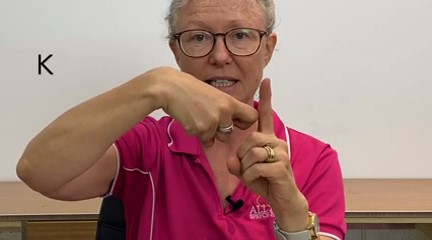K: (144, 58, 317, 212)
